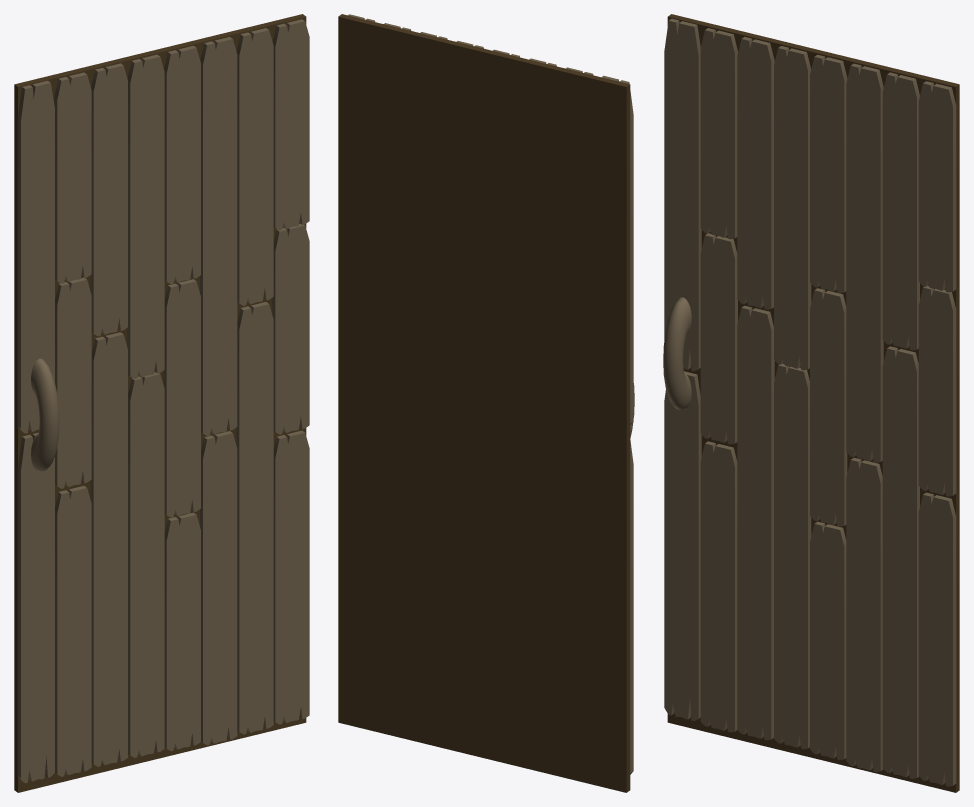
File: Door.fbx
3 renders of one model, left to right at view 1: azimuth 30°, elevation 25°; view 2: azimuth 150°, elevation 25°; view 3: azimuth 330°, elevation 25°, orthographic.
Parts seen in each view (by area): view 1: Door; view 2: Door; view 3: Door.
Part boxes in pixels (box(x1,y1,x2,y2)): Door: box(14, 14, 309, 792); Door: box(338, 14, 634, 792); Door: box(663, 14, 959, 792).
Size of the model in its own units: 5.77 by 13.48 by 0.7521.
